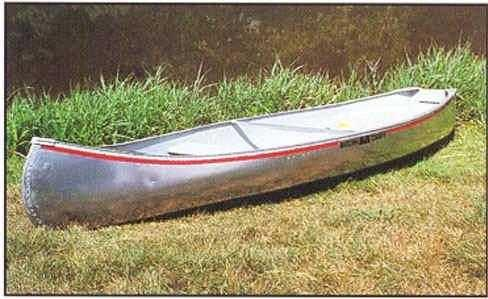kayak: (21, 83, 461, 230)
